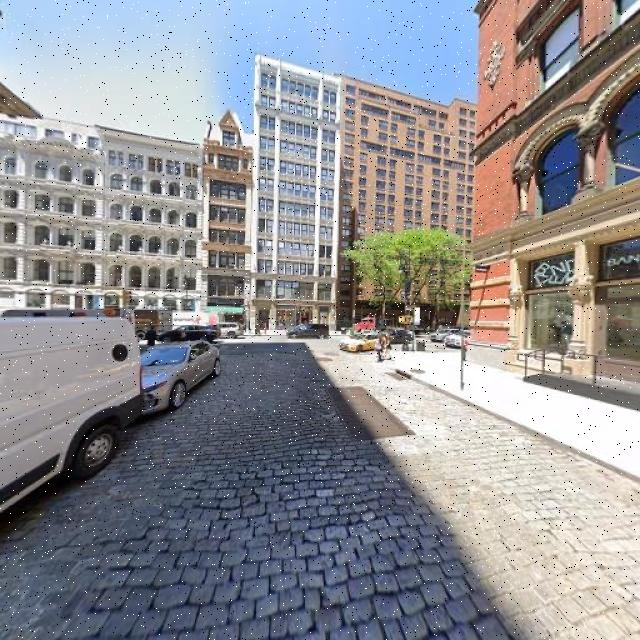Building: (479, 1, 640, 395), (338, 78, 554, 332), (1, 119, 202, 337), (290, 64, 335, 333), (205, 128, 250, 333)
